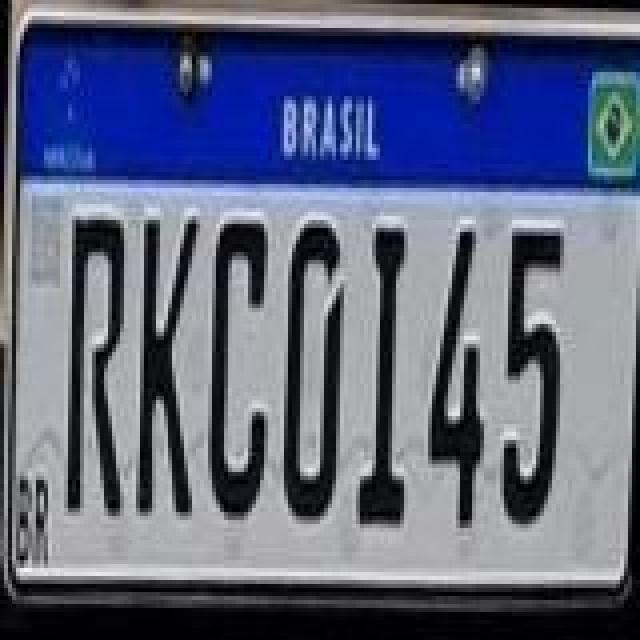4: (420, 226, 492, 534)
5: (502, 220, 570, 532)
C: (202, 210, 278, 526)
D: (276, 220, 348, 532)
I: (352, 222, 416, 530)
K: (132, 210, 204, 526)
R: (60, 212, 132, 524)
